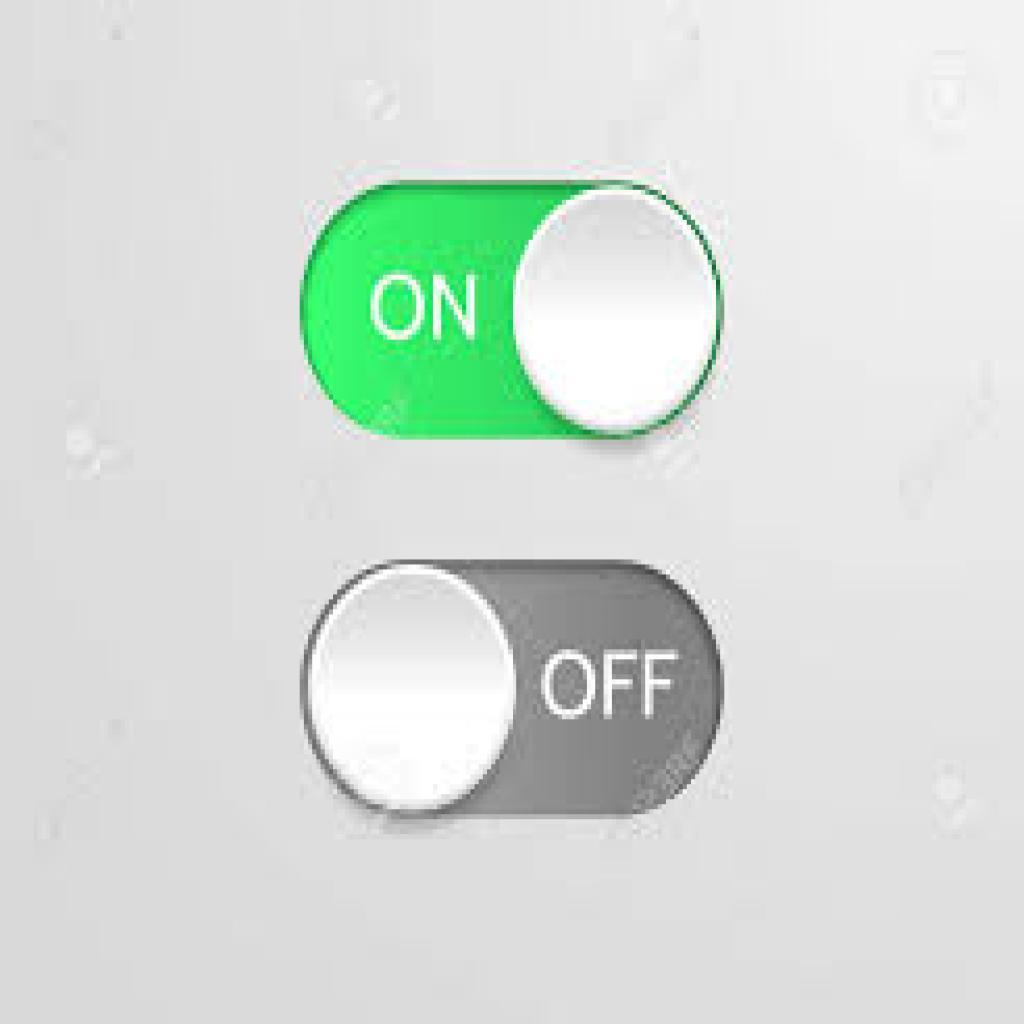switch: (296, 556, 730, 820), (302, 177, 725, 439)
